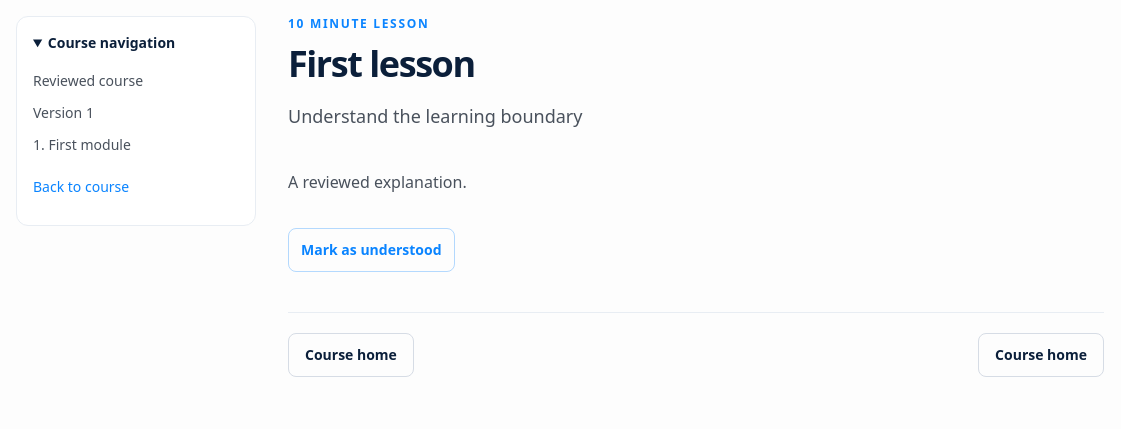
Scenario: LessonPlayer › persists an explicit required-block action while keeping course navigation collapsible
The width and height of the screenshot is (1121, 429).
Check: the text "Understand the learning boundary" is shown, box [288,104,582,128]
Check: the heading "Course navigation" is shown, box [48,33,175,52]
What coordinates should you click on to do the following:
click the button "Mark as understood"
I would click on:
 (371, 250)
Its box is [288,228,454,272].
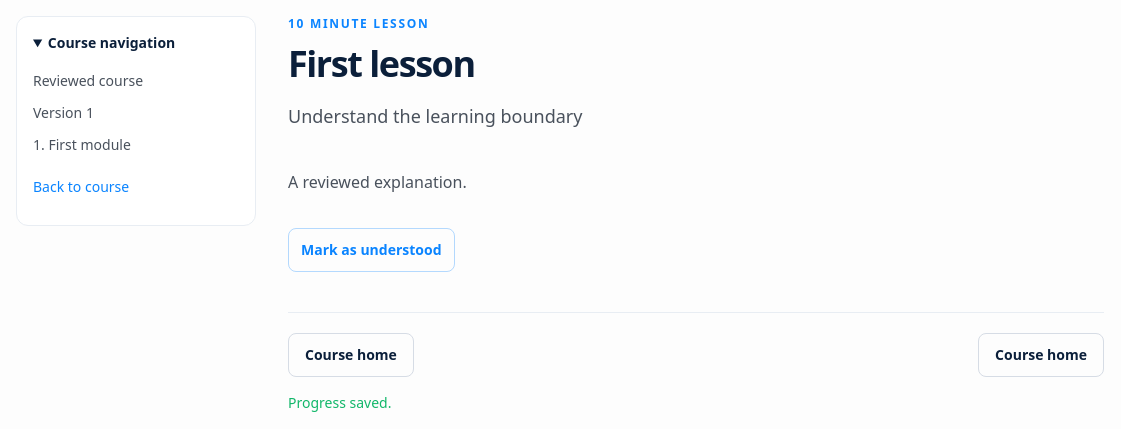
Check: the text "Progress saved." is shown, box [288,393,391,412]
